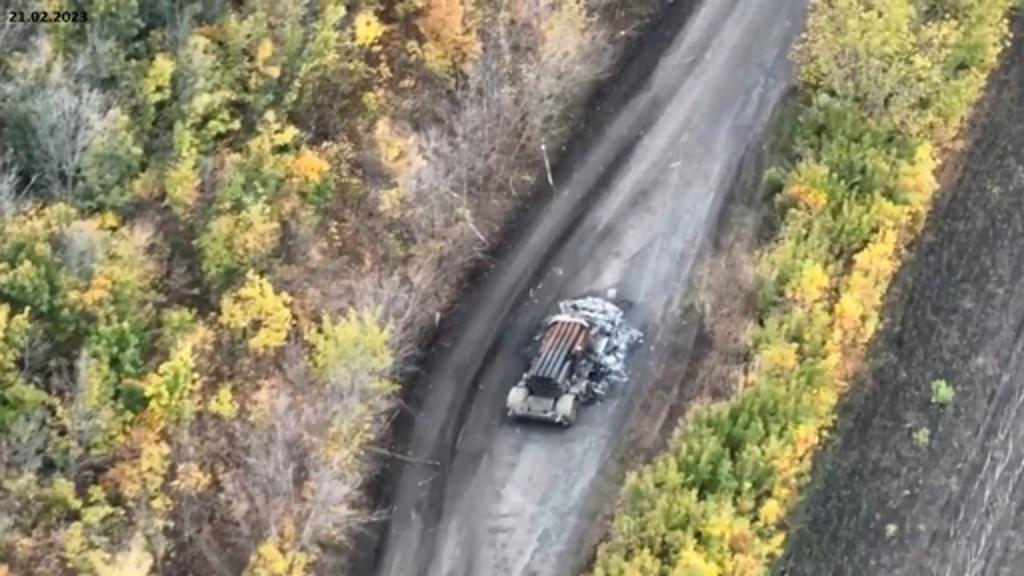MLRS: (500, 302, 626, 430)
